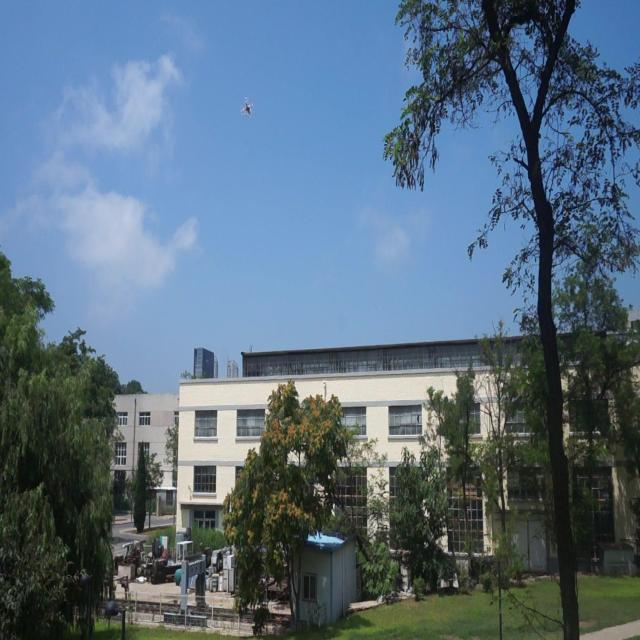drone: (241, 98, 254, 120)
